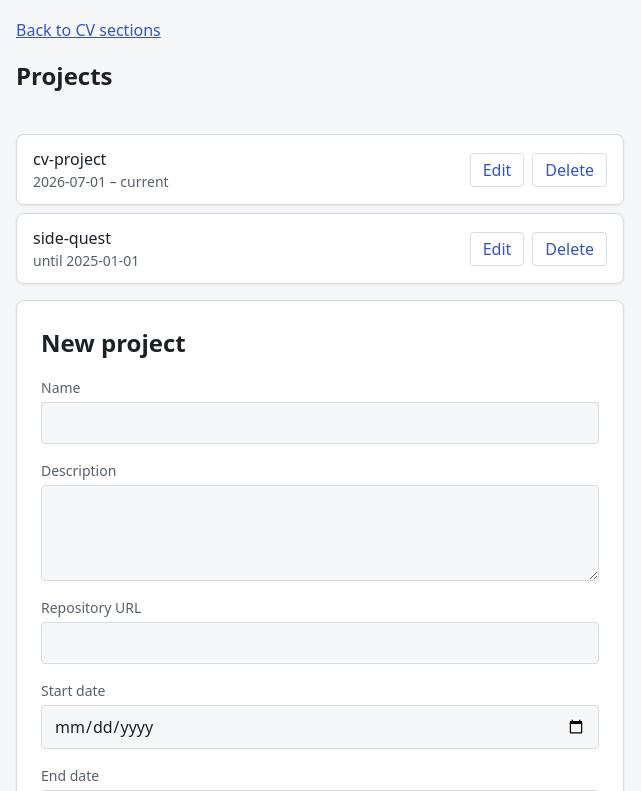
Test case: ProjectsPage › a PUT answered 404 shows an error and leaves no stale row
The image size is (641, 791).
Click the button with aria-label "Edit side-quest": (497, 248) [470,232,524,266]
(page scrolled)
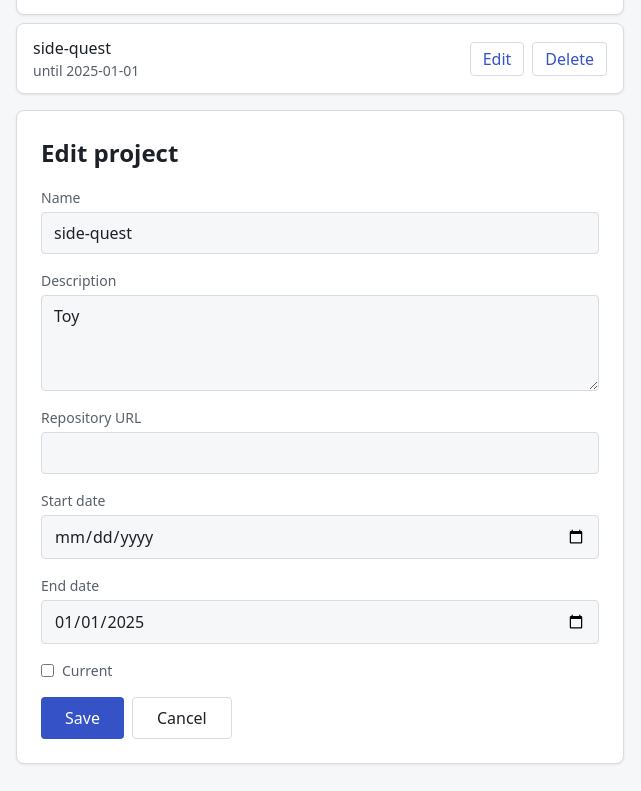
Expected: the checkbox labelled "Current" is not checked, [41,664,54,677]
Click the button "Save": (82, 718) [41,697,124,739]
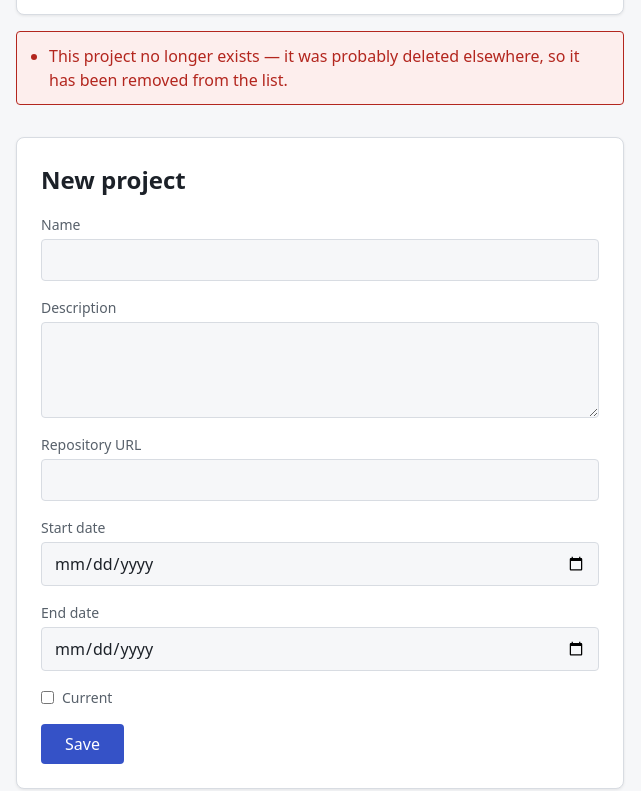
Now the message shows "This project no longer exists", box [49,45,579,91]
Now the text "side-quest" is gone
